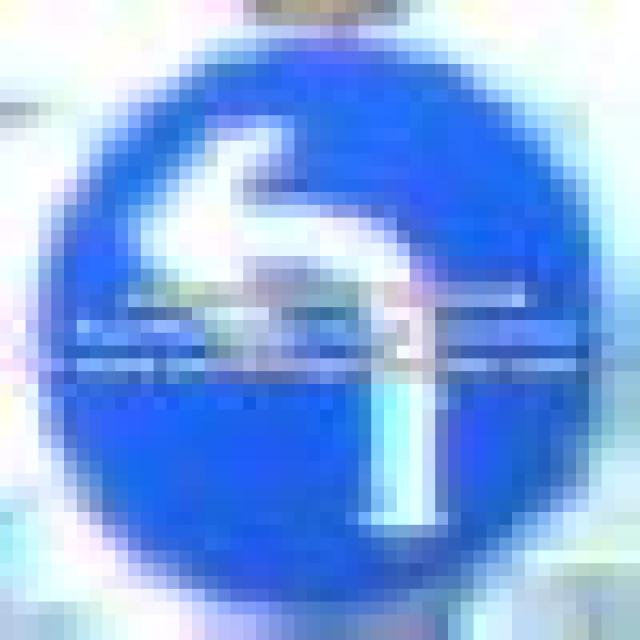COMPULSARY_TURN_LEFT: (26, 13, 588, 576)
